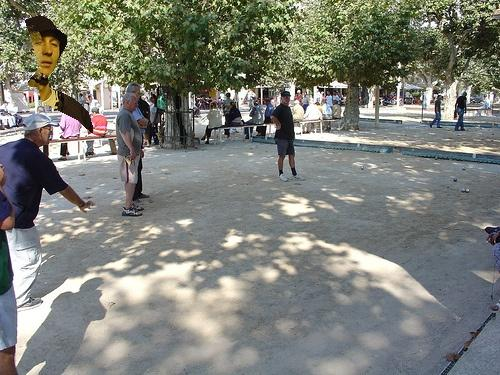tampered: (26, 16, 93, 133)
